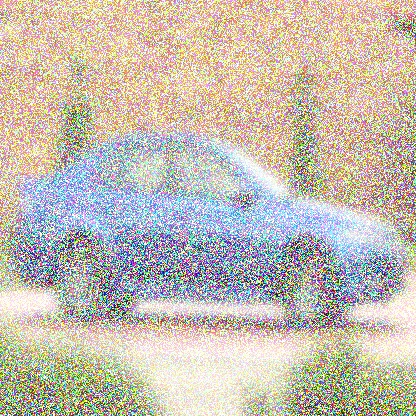Vehicle: (8, 128, 410, 333)
